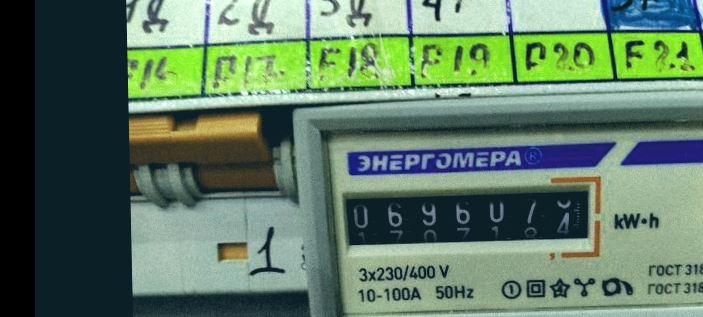0: (487, 194, 506, 224), (352, 201, 370, 229)
4: (555, 207, 572, 237)
6: (454, 196, 472, 225), (386, 199, 404, 227)
7: (521, 194, 541, 226)
9: (419, 198, 438, 227)
screen: (330, 172, 609, 262)
